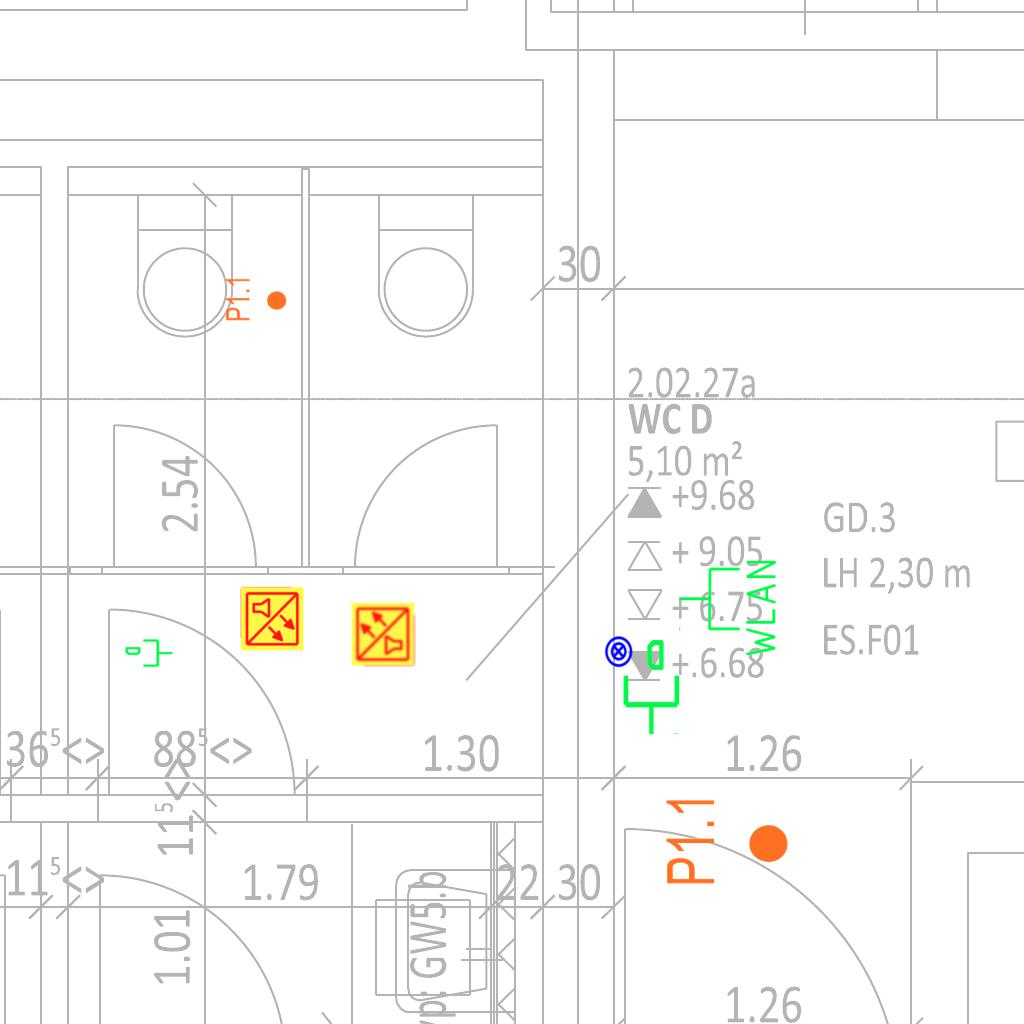Datenanschluss_einfach: (615, 637, 684, 737), (124, 637, 174, 671)
Downlight_LED_Einbauleuchten_Flur: (663, 794, 791, 887), (224, 276, 288, 322)
OKW_Multisensormelder_(Kombination_optischer_Rauch-Kahlenmonoxid_Waerme-Melder): (350, 601, 416, 667), (239, 586, 305, 652)
Taster_beleuchtet: (601, 634, 636, 669)
WLAN: (676, 556, 780, 661)
